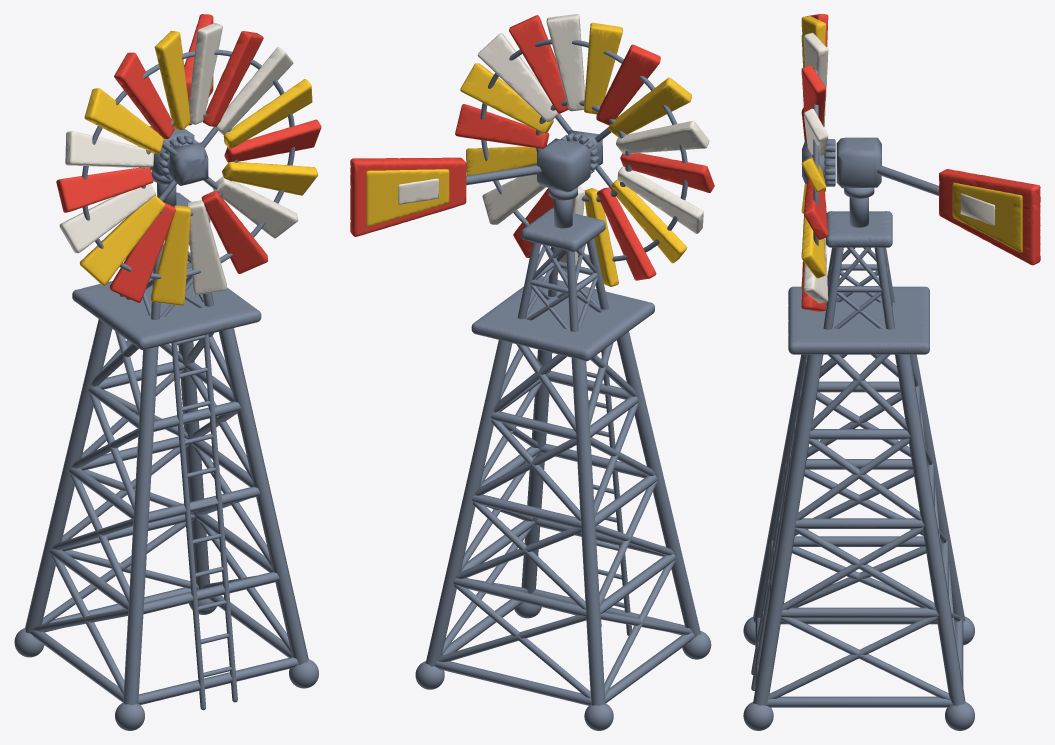
The model's file is moinho.glb.
3 views of the same model, side by side, from view 1: azimuth 30°, elevation 25°; view 2: azimuth 150°, elevation 25°; view 3: azimuth 270°, elevation 25° (orthographic). The views are drawn at different scales.
Visible parts, largest first — view 1: estrutura, rotor; view 2: estrutura, rotor; view 3: estrutura, rotor.
Boxes of the visible parts, x1=… form: estrutura: x1=14, y1=14, x2=318, y2=730; rotor: x1=56, y1=23, x2=321, y2=305; estrutura: x1=350, y1=132, x2=711, y2=730; rotor: x1=455, y1=14, x2=714, y2=286; estrutura: x1=743, y1=137, x2=1040, y2=730; rotor: x1=801, y1=14, x2=828, y2=311.
Size of the model in its own units: 2.79 by 6.72 by 2.75.
